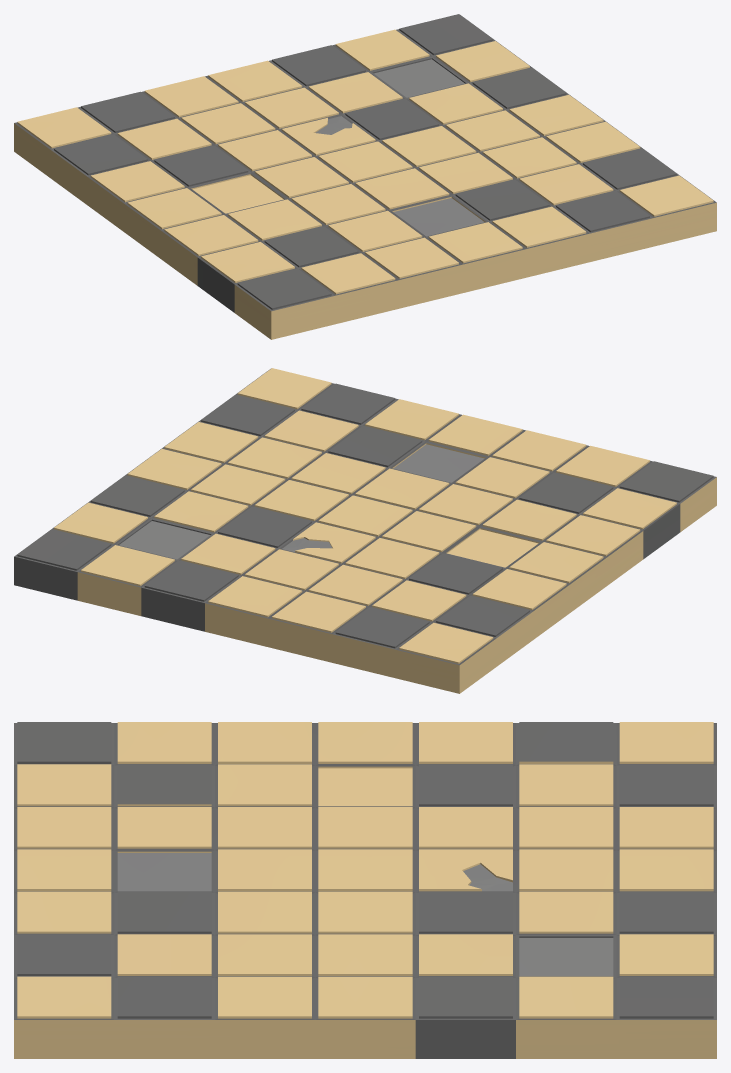
The model's file is floor_tile_3.obj.
The picture shows the model from 3 angles, top to bottom: view 1: azimuth 30°, elevation 25°; view 2: azimuth 150°, elevation 25°; view 3: azimuth 270°, elevation 25°; orthographic projection. The views are drawn at different scales.
Visible parts, largest first — view 1: floor_tile_3_Mesh; view 2: floor_tile_3_Mesh; view 3: floor_tile_3_Mesh.
Boxes of the visible parts, x1,y1,x2,y2 form: floor_tile_3_Mesh: (14, 14, 716, 339); floor_tile_3_Mesh: (14, 368, 716, 693); floor_tile_3_Mesh: (14, 722, 716, 1058).
Size of the model in its own units: 1.82 by 0.1179 by 1.82.
